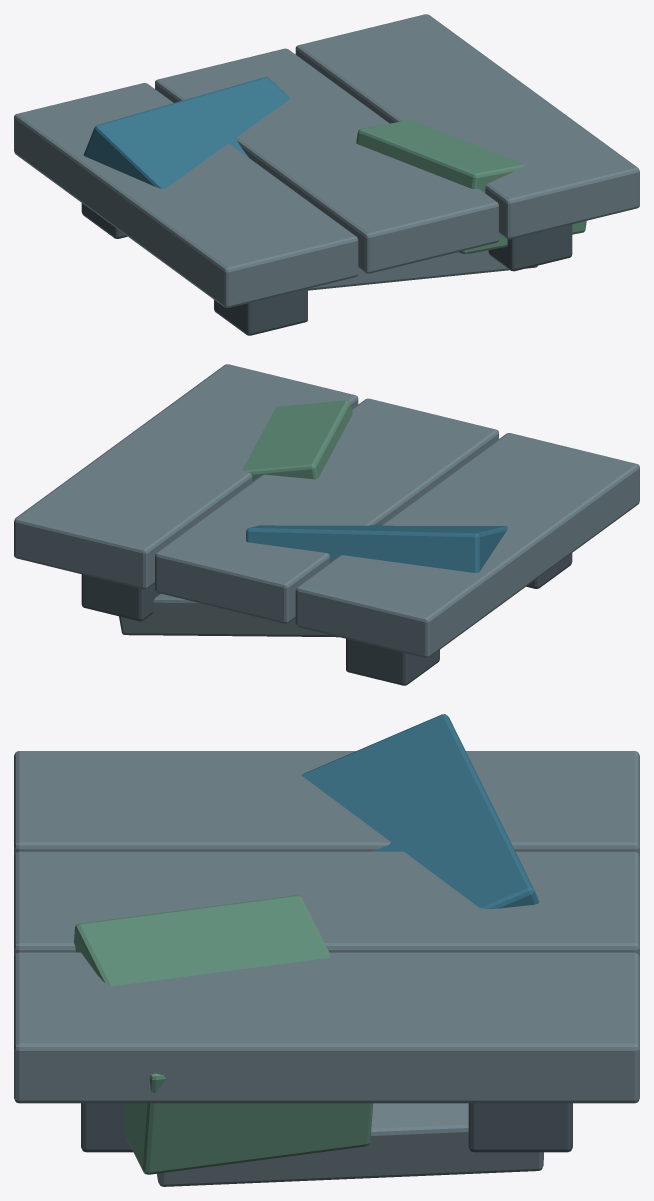
File: pallet_stack_d3.glb
3 renders of one model, top to bottom at view 1: azimuth 30°, elevation 25°; view 2: azimuth 150°, elevation 25°; view 3: azimuth 270°, elevation 25°, orthographic. The views are drawn at different scales.
Visible parts, largest first — view 1: Pallet deck board.021, Pallet deck board.023, Pallet deck board.022, Fallen load.001, Detached green crate.001, Split pallet base.001, Pallet block.028, Pallet block.030, Pallet block.029; view 2: Pallet deck board.021, Pallet deck board.023, Pallet deck board.022, Fallen load.001, Detached green crate.001, Split pallet base.001, Pallet block.029, Pallet block.031, Pallet block.028; view 3: Pallet deck board.023, Pallet deck board.021, Pallet deck board.022, Detached green crate.001, Fallen load.001, Split pallet base.001, Pallet block.031, Pallet block.030.
Part boxes in pixels (x1,y1,x2,y2): Pallet deck board.021: (14, 83, 358, 307); Pallet deck board.023: (295, 14, 639, 239); Pallet deck board.022: (155, 48, 498, 273); Fallen load.001: (83, 77, 289, 188); Detached green crate.001: (356, 120, 586, 254); Split pallet base.001: (308, 250, 537, 290); Pallet block.028: (214, 289, 307, 335); Pallet block.030: (488, 224, 572, 271); Pallet block.029: (81, 203, 127, 238); Pallet deck board.021: (295, 433, 639, 657); Pallet deck board.023: (14, 364, 358, 589); Pallet deck board.022: (155, 398, 498, 623); Fallen load.001: (246, 524, 507, 572); Detached green crate.001: (242, 400, 352, 481); Split pallet base.001: (119, 593, 338, 637); Pallet block.029: (346, 639, 439, 685); Pallet block.031: (81, 574, 160, 621); Pallet block.028: (526, 553, 572, 588); Pallet deck board.023: (14, 952, 639, 1103); Pallet deck board.021: (14, 751, 639, 855); Pallet deck board.022: (14, 851, 639, 956); Detached green crate.001: (74, 895, 373, 1174); Fallen load.001: (301, 714, 538, 909); Split pallet base.001: (157, 1103, 543, 1186); Pallet block.031: (468, 1103, 572, 1152); Pallet block.030: (81, 1103, 132, 1152).
Bounding box in the file's own units: 2.37 × 0.843 × 2.1.
